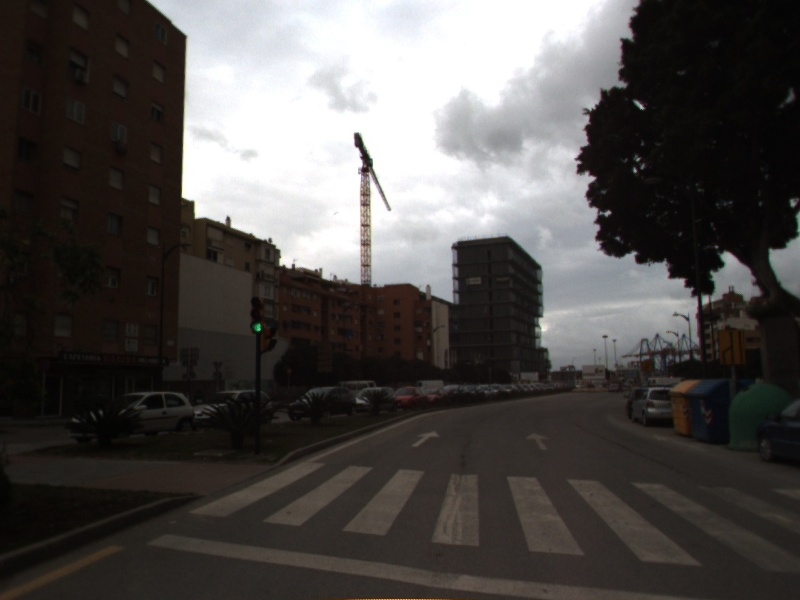STRAIGHT: (410, 429, 442, 449), (523, 431, 553, 451)
